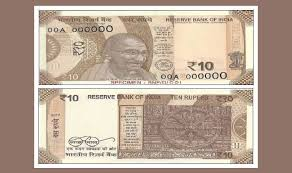ten: (49, 23, 234, 74)
